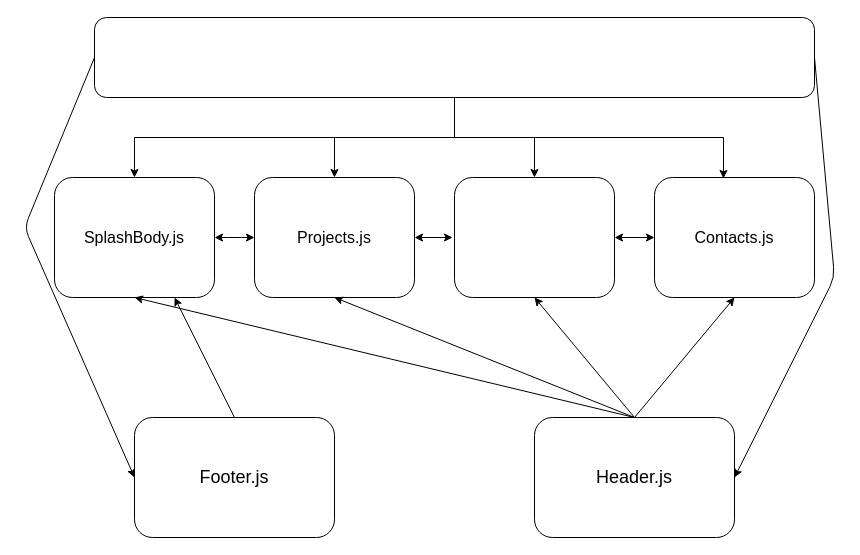
Some shapes in this 860 by 555 pixel diagram are drawn without their labels. Each missing label, with the centre of its shape:
"AboutUs.js" belongs at (x=534, y=237).
"App.js" belongs at (x=454, y=57).
